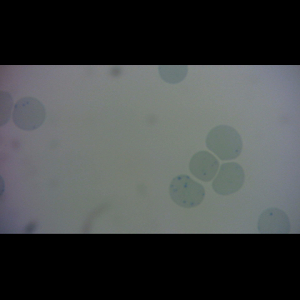erythrocyte: (210, 161, 247, 197)
punctate reticulocyte: (204, 124, 244, 162), (167, 174, 207, 210), (11, 94, 47, 132), (188, 149, 221, 183)
